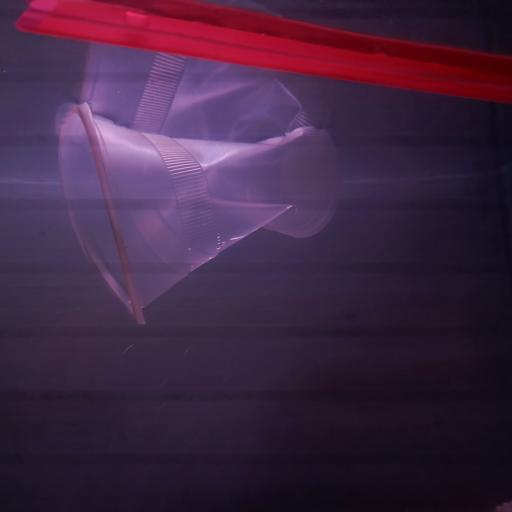plastic_cup: (59, 98, 341, 329)
plastic_straw: (12, 10, 512, 108)
